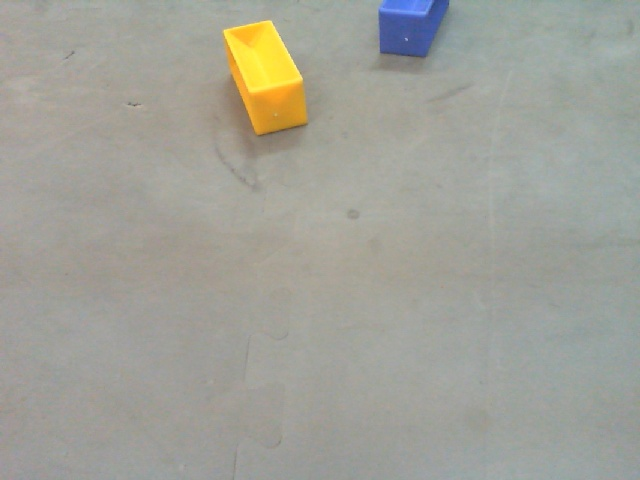BlueSample: (379, 1, 454, 56)
YellowSample: (221, 18, 309, 136)
